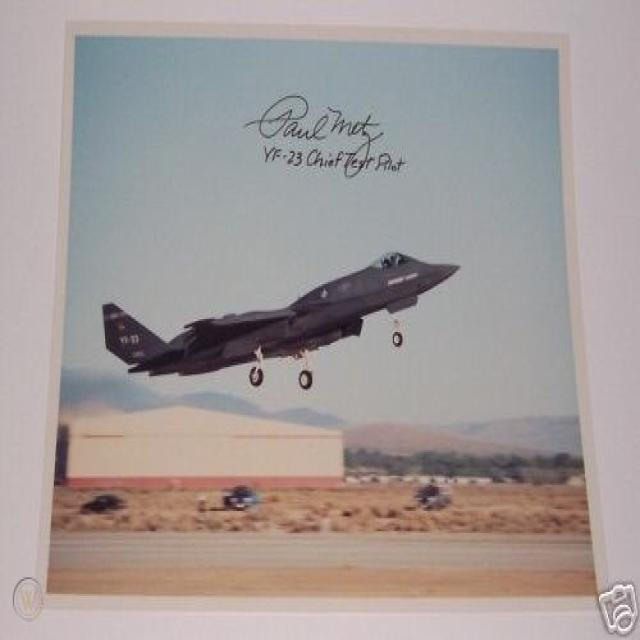MIL_Plane: (101, 249, 462, 391)
